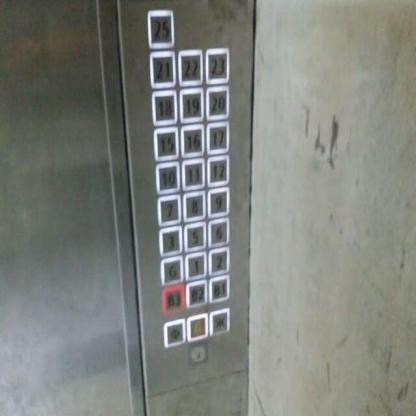1: (182, 248, 207, 282)
10: (153, 159, 180, 194)
11: (179, 155, 205, 191)
12: (205, 153, 229, 187)
15: (151, 124, 179, 161)
16: (178, 121, 204, 158)
17: (204, 119, 230, 155)
18: (150, 86, 178, 126)
19: (178, 85, 204, 123)
2: (206, 244, 230, 278)
20: (204, 83, 230, 121)
21: (148, 48, 176, 88)
22: (175, 46, 203, 87)
23: (203, 44, 230, 85)
25: (145, 6, 176, 50)
3: (156, 223, 182, 257)
5: (181, 219, 206, 252)
6: (206, 214, 230, 249)
7: (156, 192, 182, 227)
8: (181, 188, 205, 223)
9: (206, 184, 230, 218)
B1: (207, 270, 230, 304)
B2: (183, 275, 208, 308)
B3: (160, 280, 184, 313)
G: (158, 251, 183, 286)
alarm: (185, 310, 208, 342)
close: (207, 305, 230, 336)
open: (161, 314, 186, 348)
